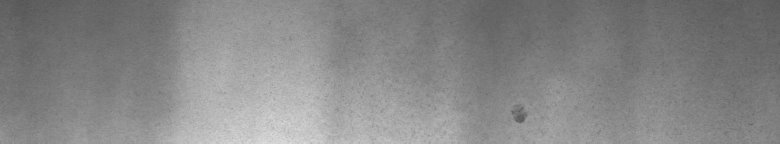fi: (508, 99, 531, 128)
